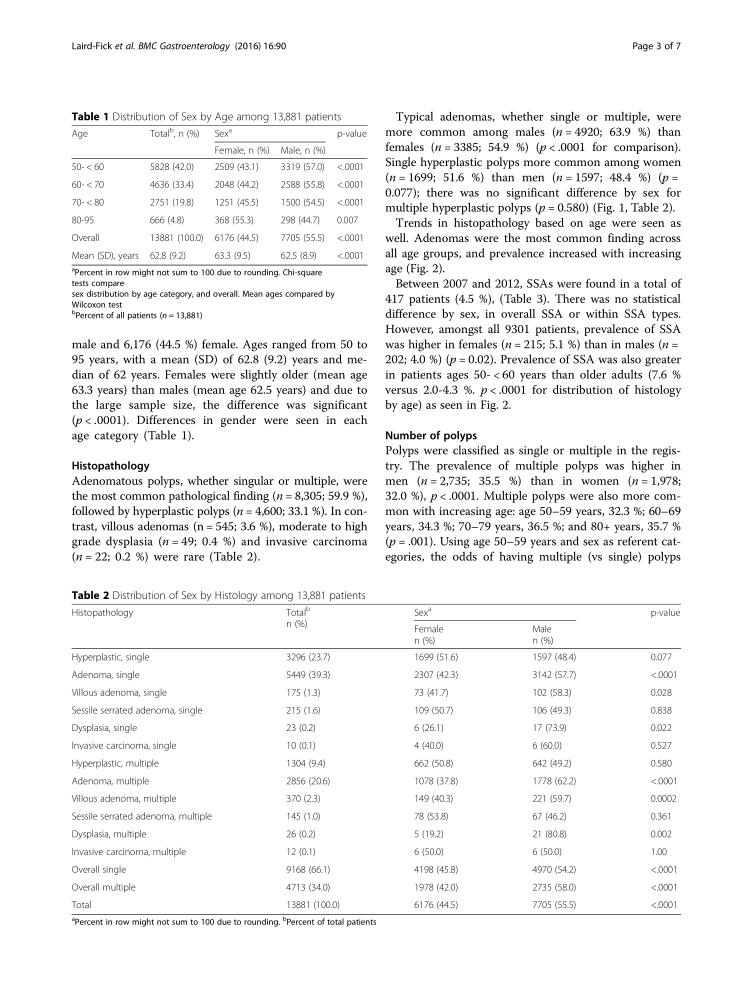table: (71, 605, 679, 910), (71, 126, 366, 261)
